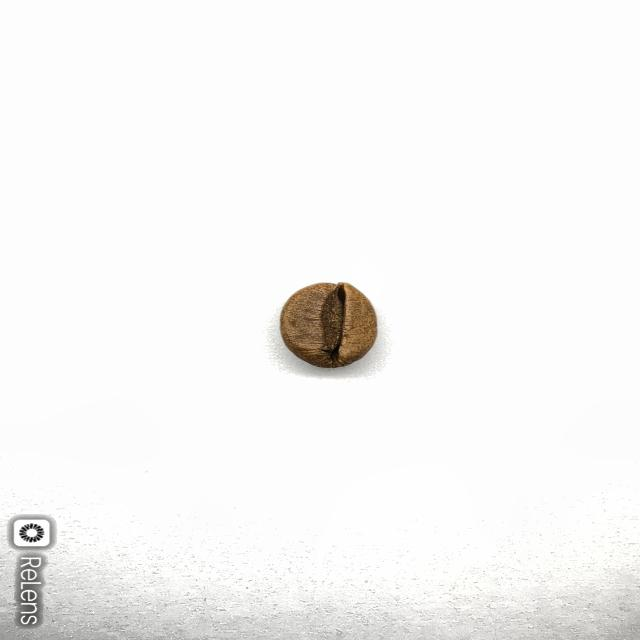Good bean: (279, 281, 378, 369)
